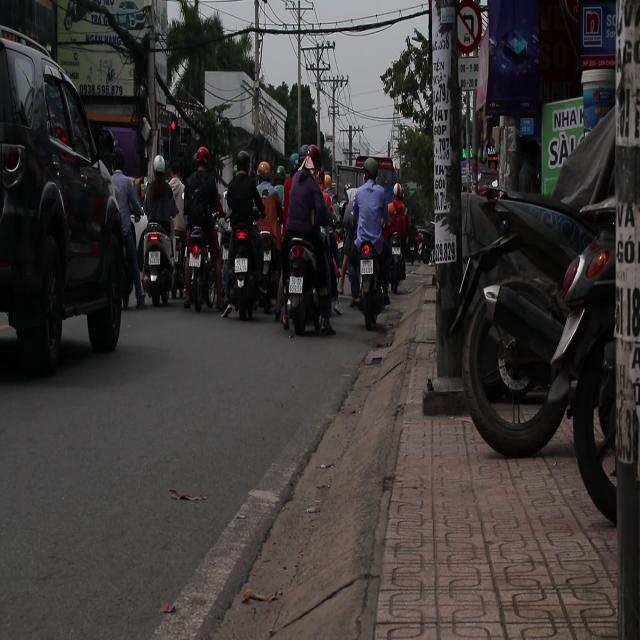car: (0, 12, 116, 363)
motorbike: (288, 218, 344, 331), (354, 220, 397, 348), (184, 218, 229, 323), (228, 229, 270, 339), (138, 220, 180, 306)
